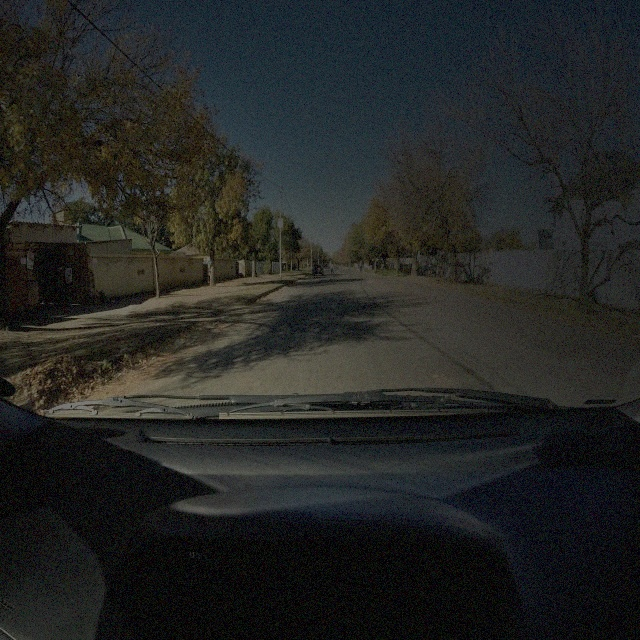pothole: (426, 370, 448, 380)
